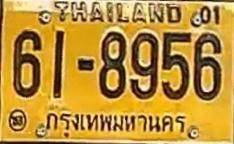1: (53, 30, 64, 97)
5: (161, 32, 191, 100)
6: (192, 33, 222, 101), (13, 30, 42, 97)
8: (99, 30, 126, 98)
9: (130, 32, 158, 99)
BKK: (43, 108, 193, 139)
